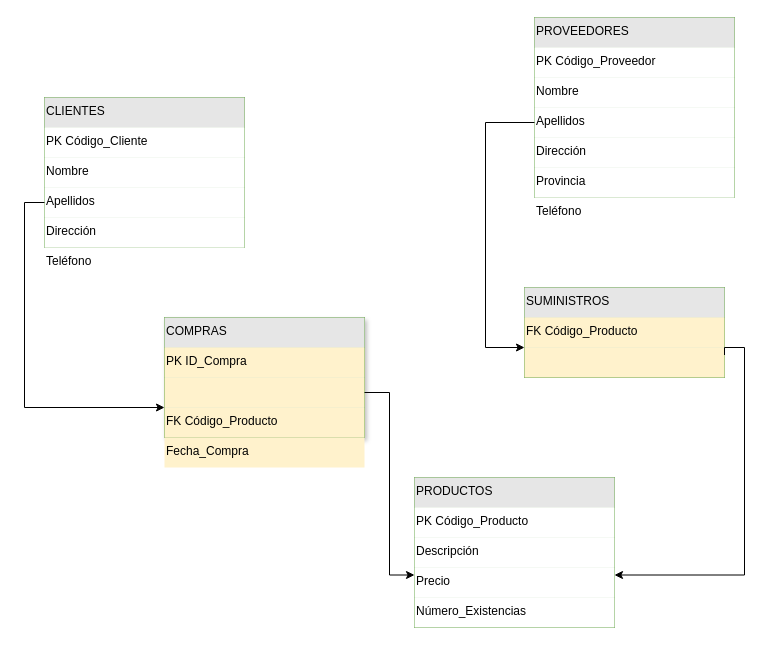
Some shapes in this 770 by 645 pixel diagram are drawn without their labels. Here are the shapes that lost their labels. From the top down, the centre of each, then its label:
the point at 624,362: FK Código_Proveedor
the point at 264,392: FK Código_Cliente
